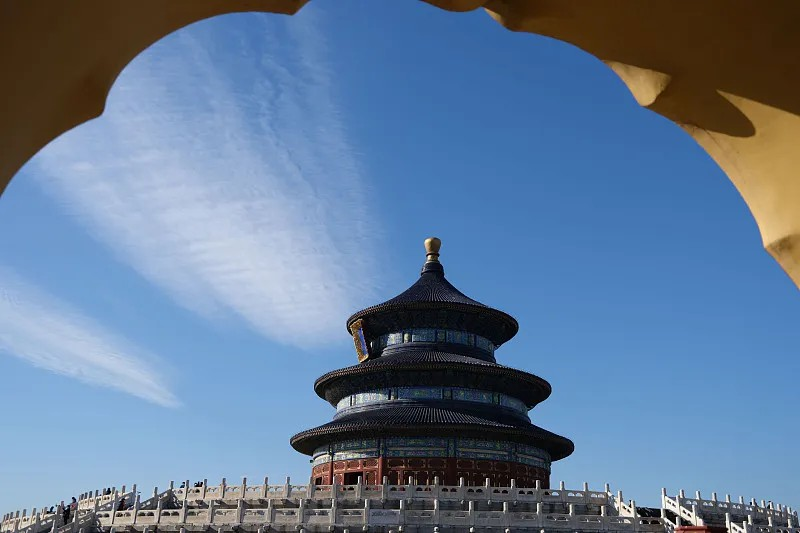Heaven: (289, 237, 575, 490)
